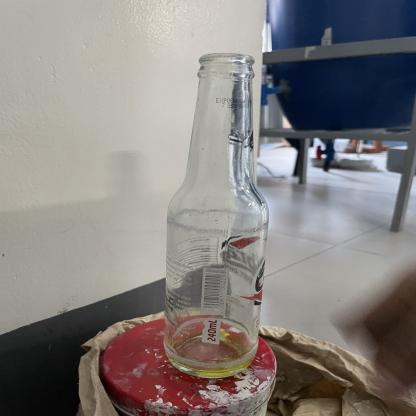Can: (158, 50, 272, 380)
